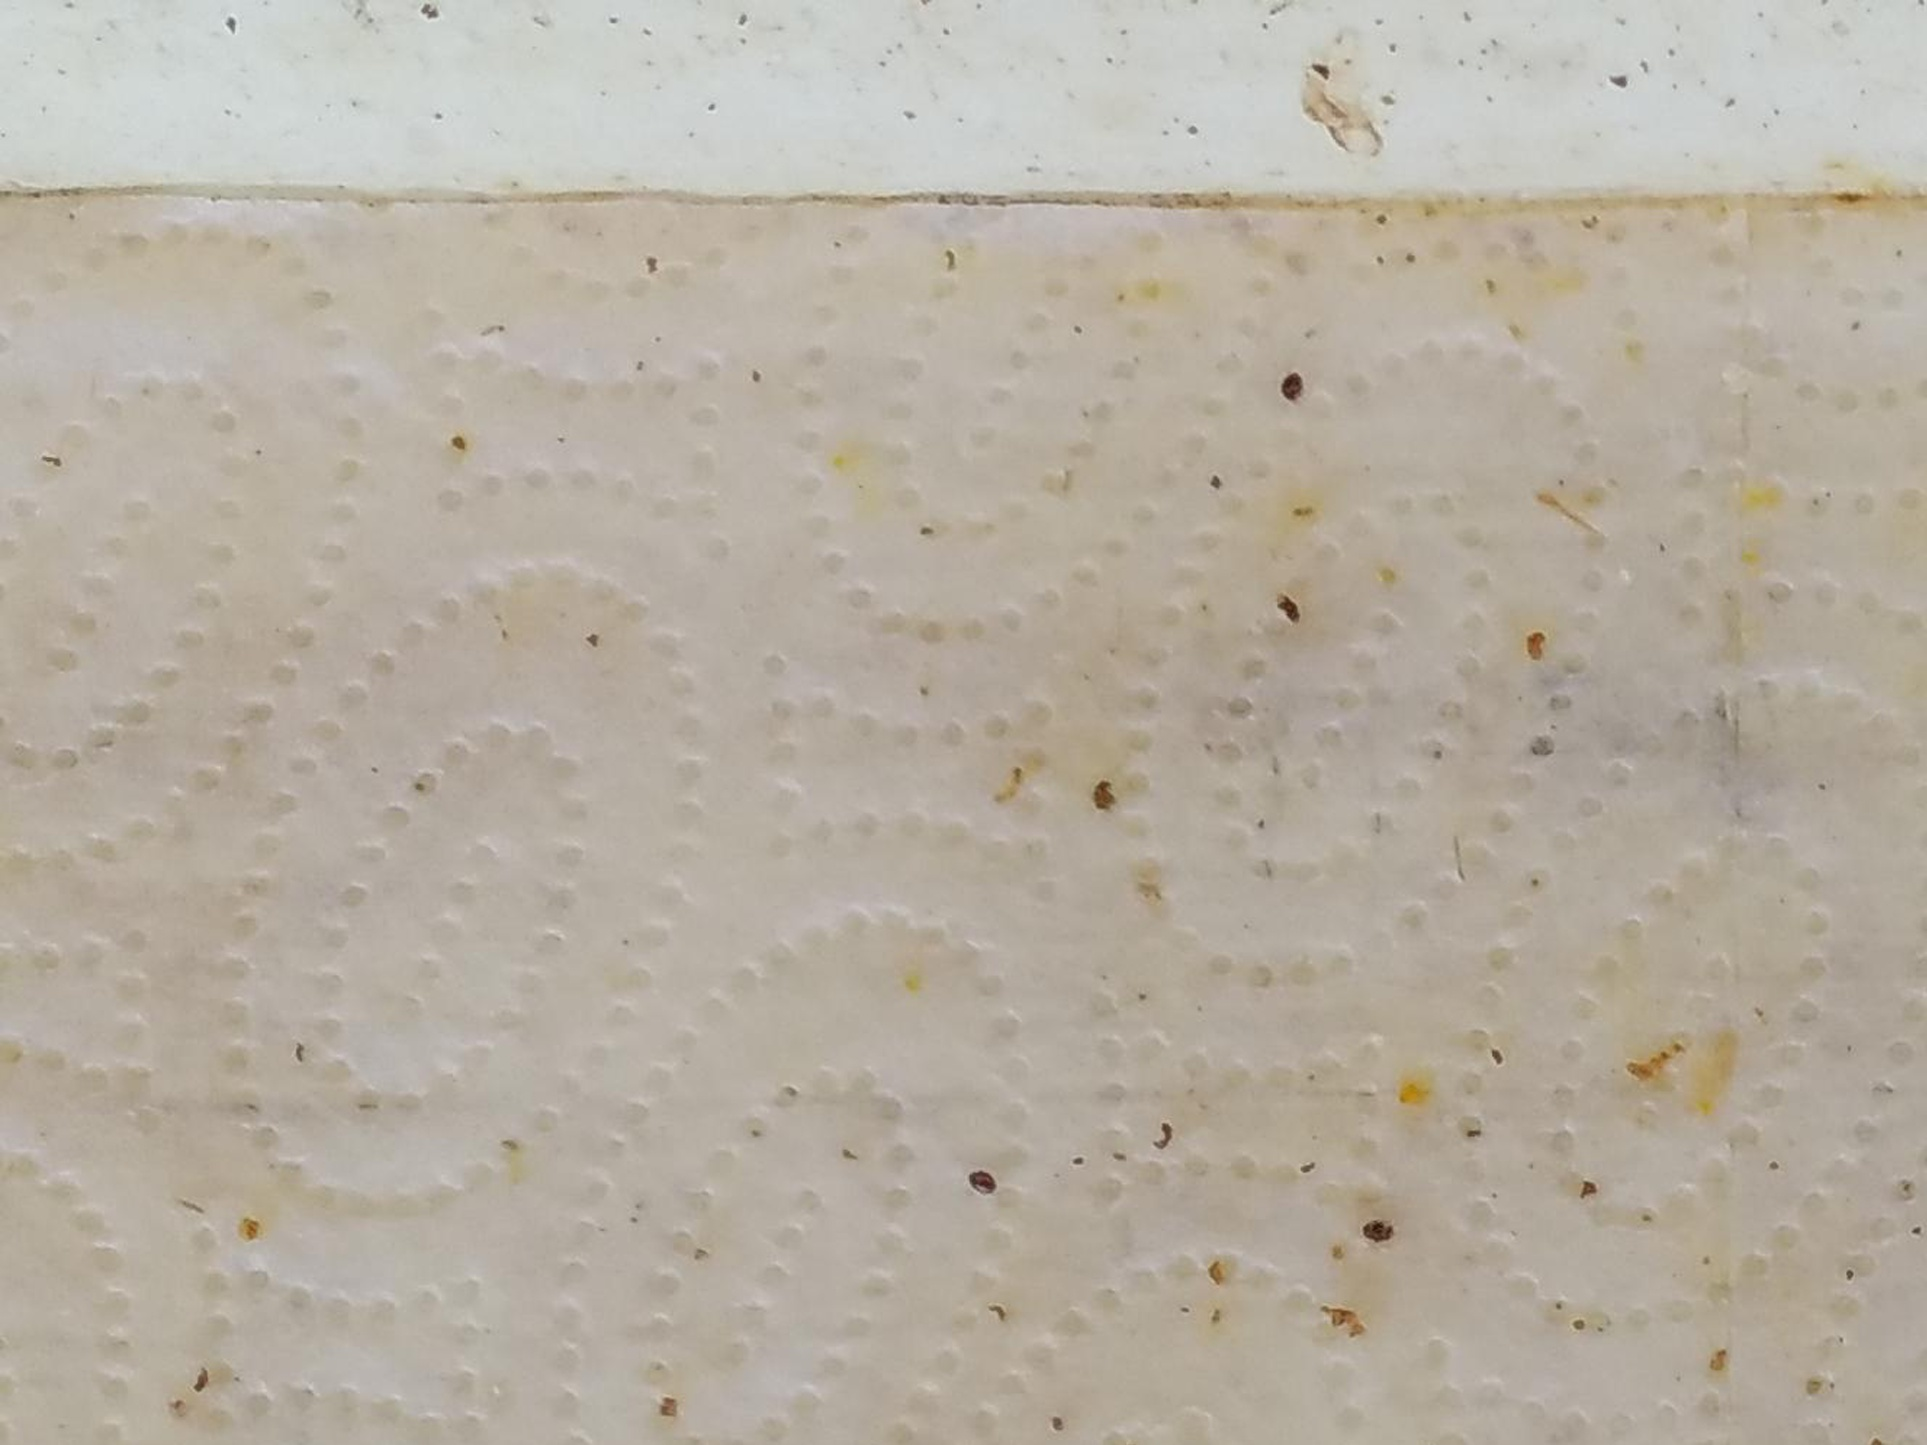Varroa: (970, 1173, 1008, 1211), (1358, 1220, 1394, 1258), (1278, 376, 1306, 405)
